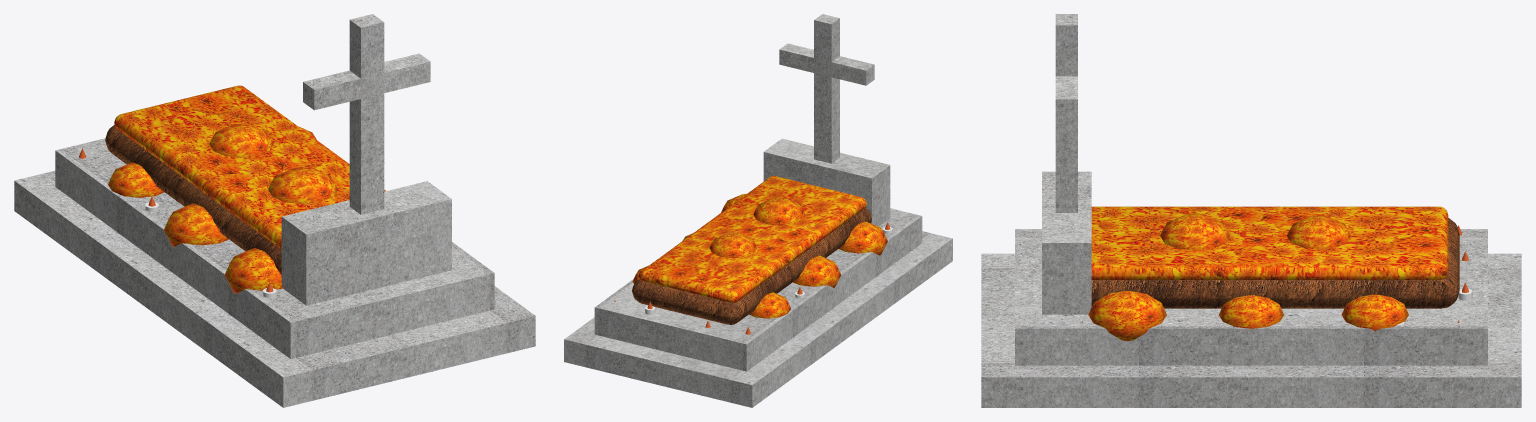
Rendered from Tumba.obj.
The picture shows the model from 3 angles, left to right: view 1: azimuth 30°, elevation 25°; view 2: azimuth 150°, elevation 25°; view 3: azimuth 270°, elevation 25°; orthographic projection. The views are drawn at different scales.
Visible parts, largest first — view 1: Tumba_BaseInferior, Tumba_BaseMedia, Tumba_CamaCempasuchil, Tumba_Cabecera, Tumba_Cruz_V, Tumba_MonticuloTierra, Tumba_Cruz_H, Flor_Cempasuchil_7, Flor_Cempasuchil_1, Flor_Cempasuchil_3, Flor_Cempasuchil_8, Flor_Cempasuchil_5; view 2: Tumba_BaseInferior, Tumba_BaseMedia, Tumba_CamaCempasuchil, Tumba_Cabecera, Tumba_MonticuloTierra, Tumba_Cruz_V, Tumba_Cruz_H, Flor_Cempasuchil_7, Flor_Cempasuchil_1, Flor_Cempasuchil_3, Flor_Cempasuchil_8, Flor_Cempasuchil_5; view 3: Tumba_BaseInferior, Tumba_BaseMedia, Tumba_CamaCempasuchil, Tumba_MonticuloTierra, Tumba_Cabecera, Tumba_Cruz_V, Flor_Cempasuchil_2, Flor_Cempasuchil_7, Flor_Cempasuchil_6, Flor_Cempasuchil_4, Flor_Cempasuchil_8, Tumba_Cruz_H.
Boxes of the visible parts, bbox=[...] form: Tumba_BaseInferior: bbox=[14, 170, 535, 407]; Tumba_BaseMedia: bbox=[55, 138, 494, 358]; Tumba_CamaCempasuchil: bbox=[114, 85, 385, 248]; Tumba_Cabecera: bbox=[281, 181, 451, 305]; Tumba_Cruz_V: bbox=[349, 14, 384, 214]; Tumba_MonticuloTierra: bbox=[105, 125, 281, 274]; Tumba_Cruz_H: bbox=[303, 53, 430, 110]; Flor_Cempasuchil_7: bbox=[268, 167, 337, 204]; Flor_Cempasuchil_1: bbox=[224, 248, 282, 293]; Flor_Cempasuchil_3: bbox=[164, 203, 228, 246]; Flor_Cempasuchil_8: bbox=[209, 124, 273, 157]; Flor_Cempasuchil_5: bbox=[108, 162, 164, 197]; Tumba_BaseInferior: bbox=[564, 231, 952, 407]; Tumba_BaseMedia: bbox=[594, 208, 922, 371]; Tumba_CamaCempasuchil: bbox=[638, 176, 866, 302]; Tumba_Cabecera: bbox=[763, 138, 890, 226]; Tumba_MonticuloTierra: bbox=[632, 207, 871, 324]; Tumba_Cruz_V: bbox=[814, 14, 839, 163]; Tumba_Cruz_H: bbox=[779, 43, 874, 85]; Flor_Cempasuchil_7: bbox=[753, 197, 805, 225]; Flor_Cempasuchil_1: bbox=[838, 221, 887, 255]; Flor_Cempasuchil_3: bbox=[793, 255, 840, 287]; Flor_Cempasuchil_8: bbox=[709, 233, 757, 258]; Flor_Cempasuchil_5: bbox=[749, 292, 790, 318]; Tumba_BaseInferior: bbox=[981, 253, 1521, 407]; Tumba_BaseMedia: bbox=[1015, 229, 1487, 365]; Tumba_CamaCempasuchil: bbox=[1091, 206, 1448, 279]; Tumba_MonticuloTierra: bbox=[1091, 218, 1459, 308]; Tumba_Cabecera: bbox=[1042, 171, 1091, 314]; Tumba_Cruz_V: bbox=[1055, 14, 1077, 212]; Flor_Cempasuchil_2: bbox=[1088, 291, 1166, 341]; Flor_Cempasuchil_7: bbox=[1160, 213, 1229, 250]; Flor_Cempasuchil_6: bbox=[1341, 294, 1408, 331]; Flor_Cempasuchil_4: bbox=[1219, 295, 1283, 328]; Flor_Cempasuchil_8: bbox=[1287, 215, 1350, 249]; Tumba_Cruz_H: bbox=[1055, 76, 1077, 119].
Size of the model in its own units: 25.48 by 31.36 by 47.04.
Materials: 5 (5 with a texture image).
